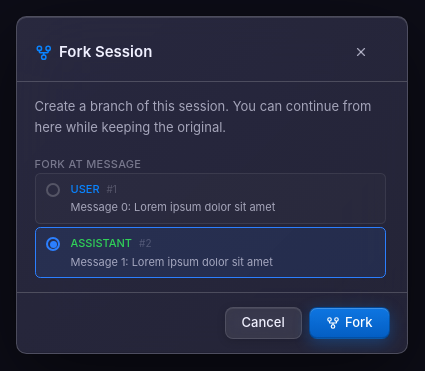
it: ForkDialog › disables Fork button when forking is in progress
This screenshot has width=425, height=371.
Click the button "Fork".
click(349, 323)  # box [309,307,390,339]
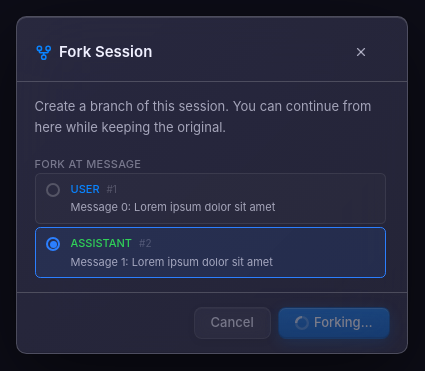
Now the button "Forking…" is disabled, box [278,307,390,339]
